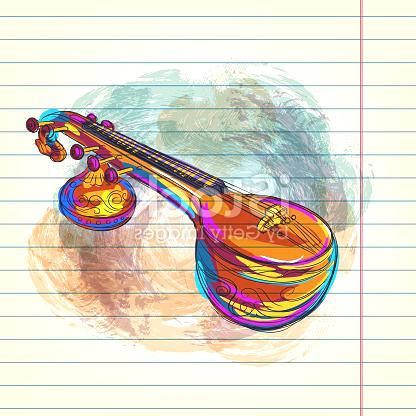Veena: (135, 153, 342, 332)
